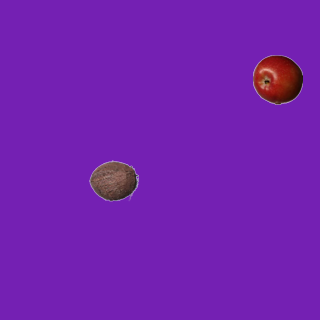Apple Braeburn: (252, 54, 302, 104)
Cocos: (88, 155, 138, 205)
